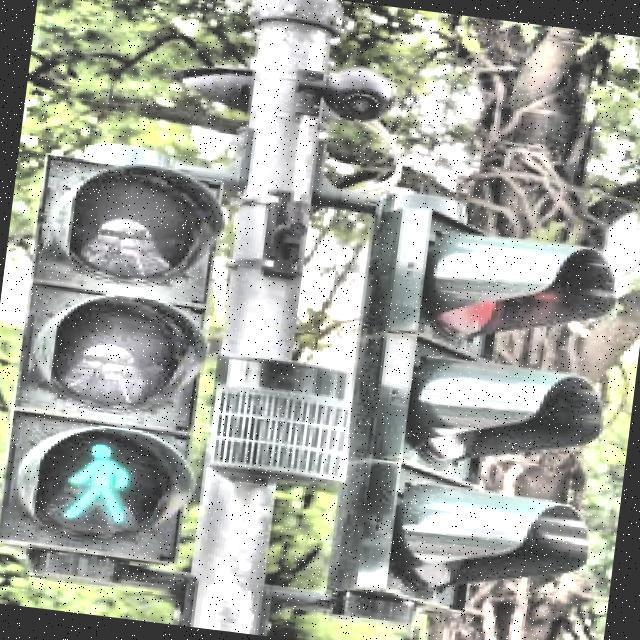green_light: (58, 436, 138, 528)
